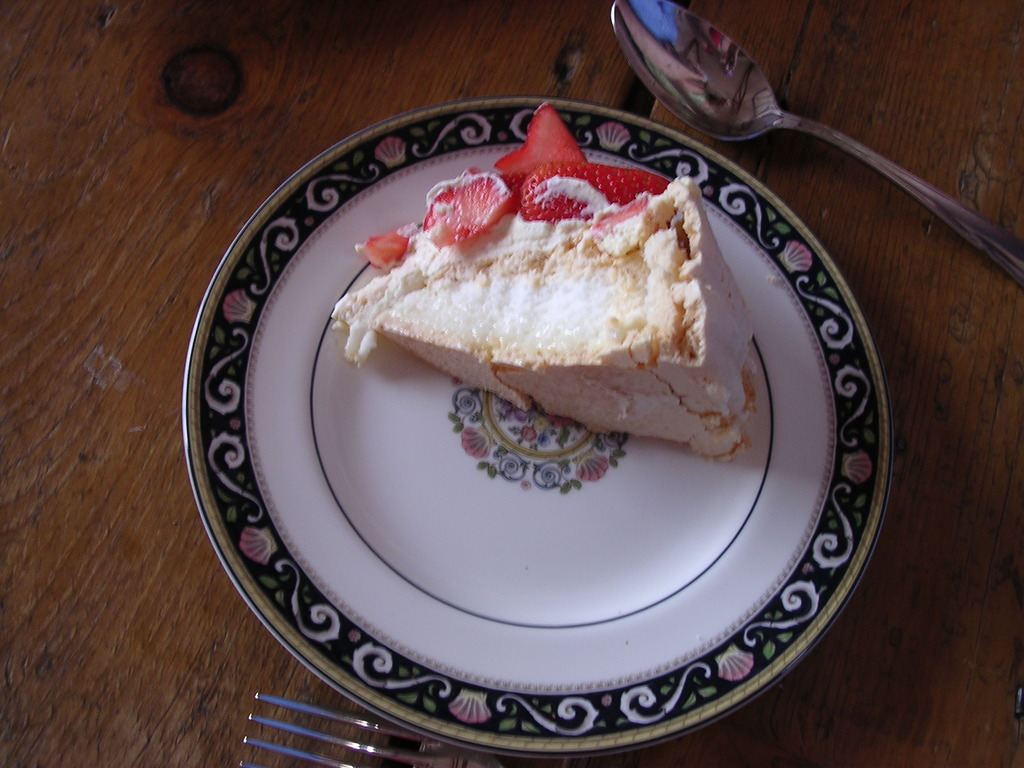cake: (334, 173, 758, 465)
